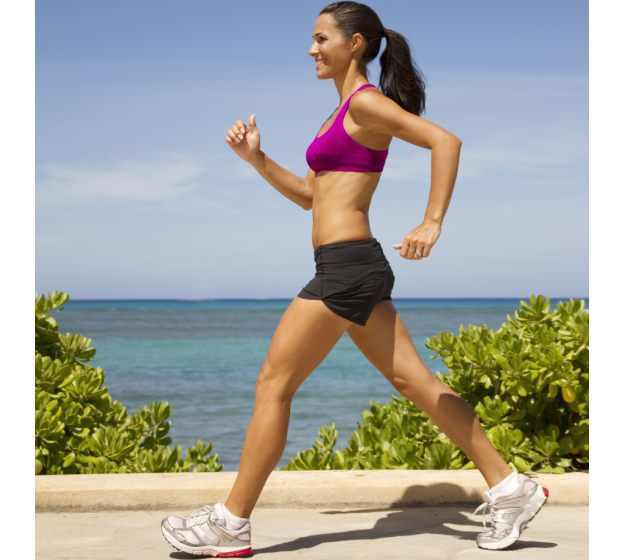feet: (150, 454, 564, 557)
